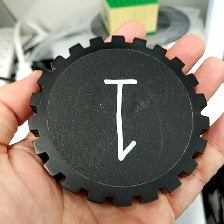gear: (26, 34, 210, 208)
